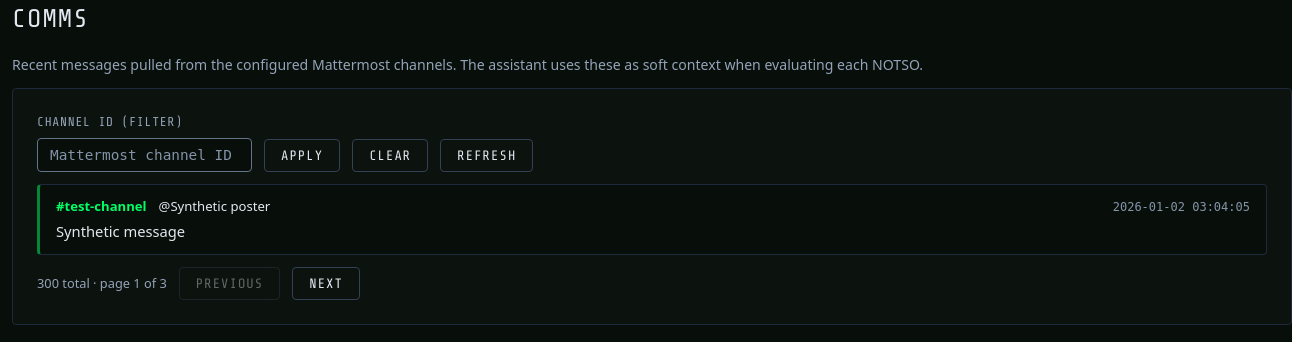
Test: the comms page › pages through the messages 100 at a time, and stops at the last page
This screenshot has width=1292, height=342.
expect the button "Previous" is disabled: met, box x1=179 y1=268 x2=280 y2=300
Click the button "Next" at x=326, y=284, box x1=292 y1=268 x2=360 y2=300
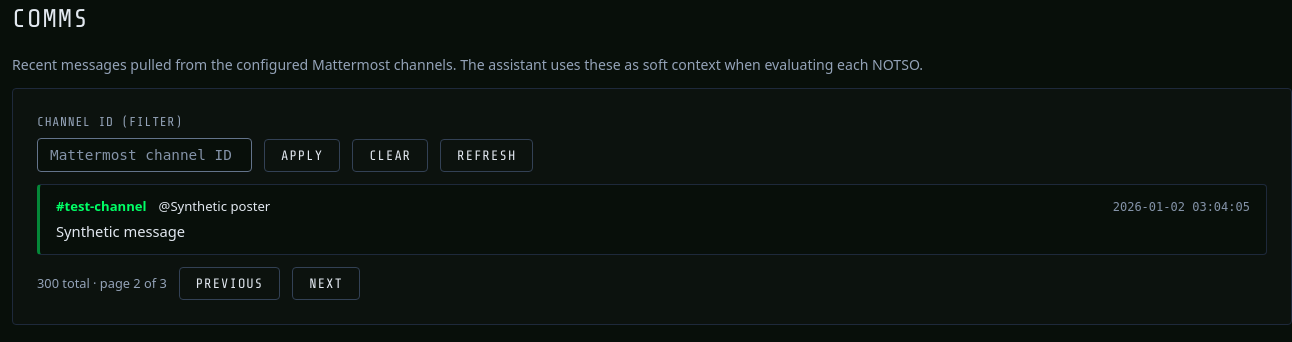
expect the text "300 total · page 2 of 3" is shown: met, box x1=37 y1=274 x2=167 y2=294
expect the button "Previous" is enabled: met, box x1=179 y1=268 x2=280 y2=300
Click the button "Next" at x=326, y=284, box x1=292 y1=268 x2=360 y2=300
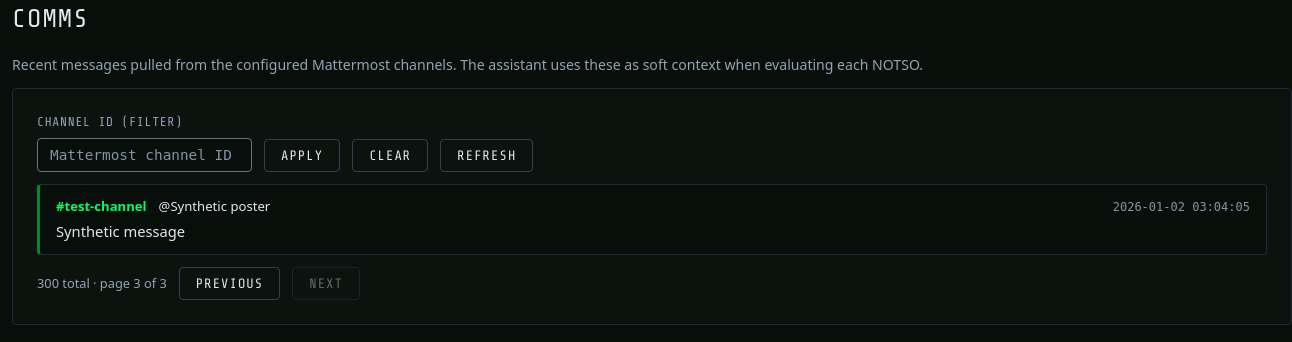
expect the text "300 total · page 3 of 3" is shown: met, box x1=37 y1=274 x2=167 y2=294
expect the button "Next" is disabled: met, box x1=292 y1=268 x2=360 y2=300
Click the button "Previous" at x=230, y=284, box x1=179 y1=268 x2=280 y2=300
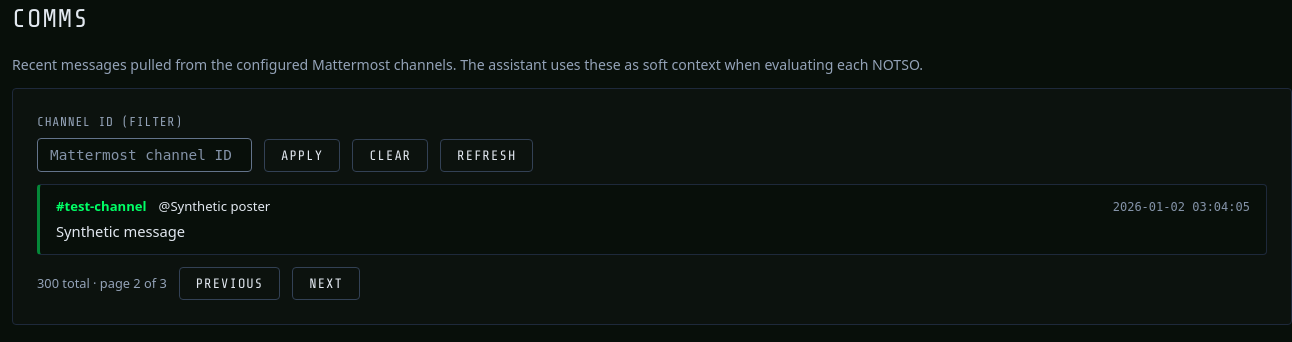
expect the text "300 total · page 2 of 3" is shown: met, box x1=37 y1=274 x2=167 y2=294
